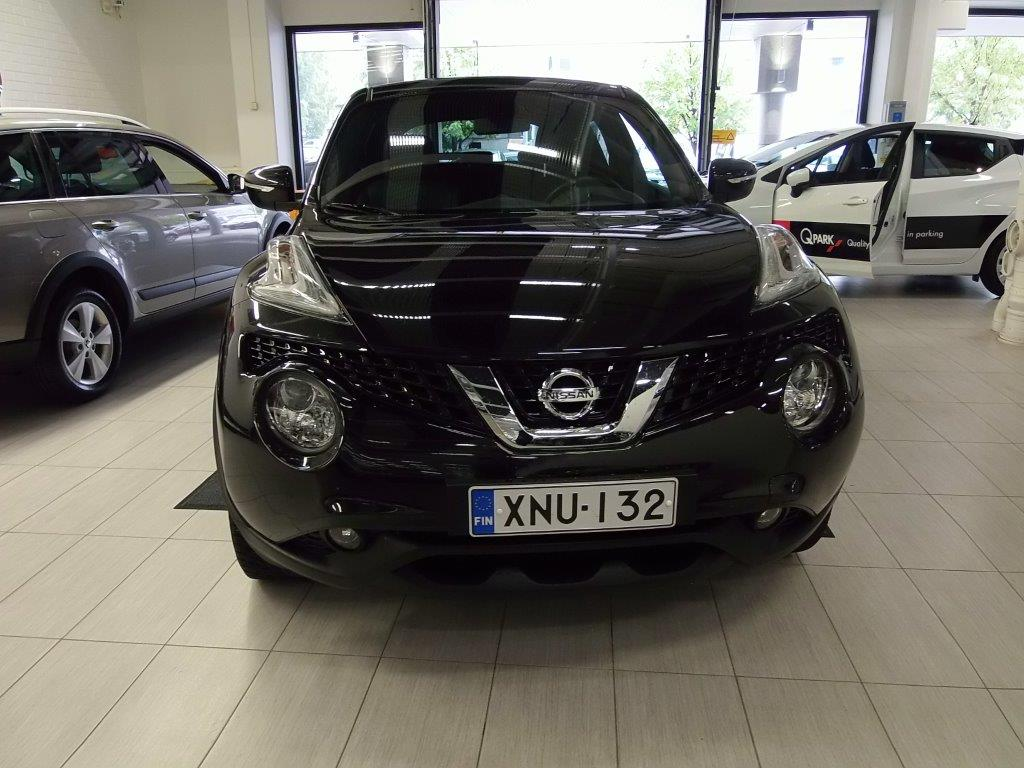license: (464, 475, 671, 531)
